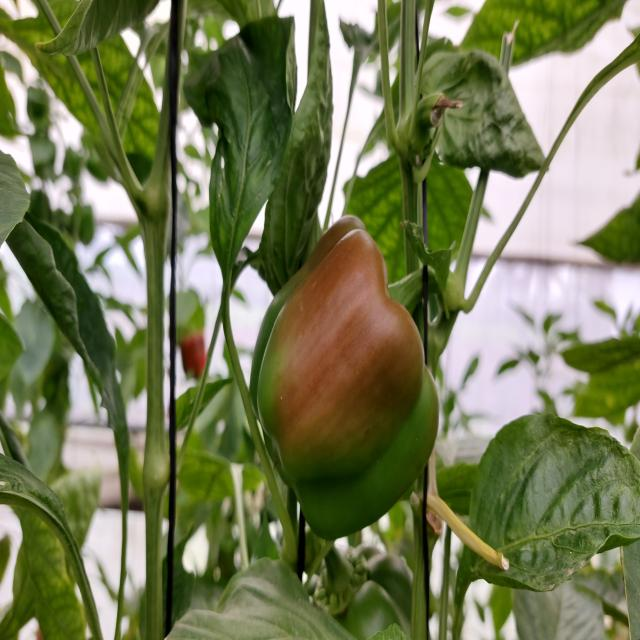BrownishRed--Can-be-Harvested: (253, 214, 439, 545)
